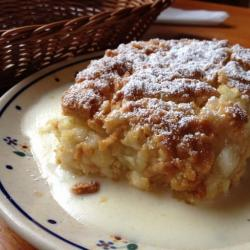apple_pie: (44, 31, 248, 211)
